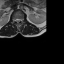CCS_normal: (17, 17, 18, 24)
LFS_normal: (20, 17, 22, 22)
LLS_normal: (18, 17, 20, 22)
RFS_normal: (14, 17, 15, 22)
RLS_normal: (15, 17, 17, 23)
